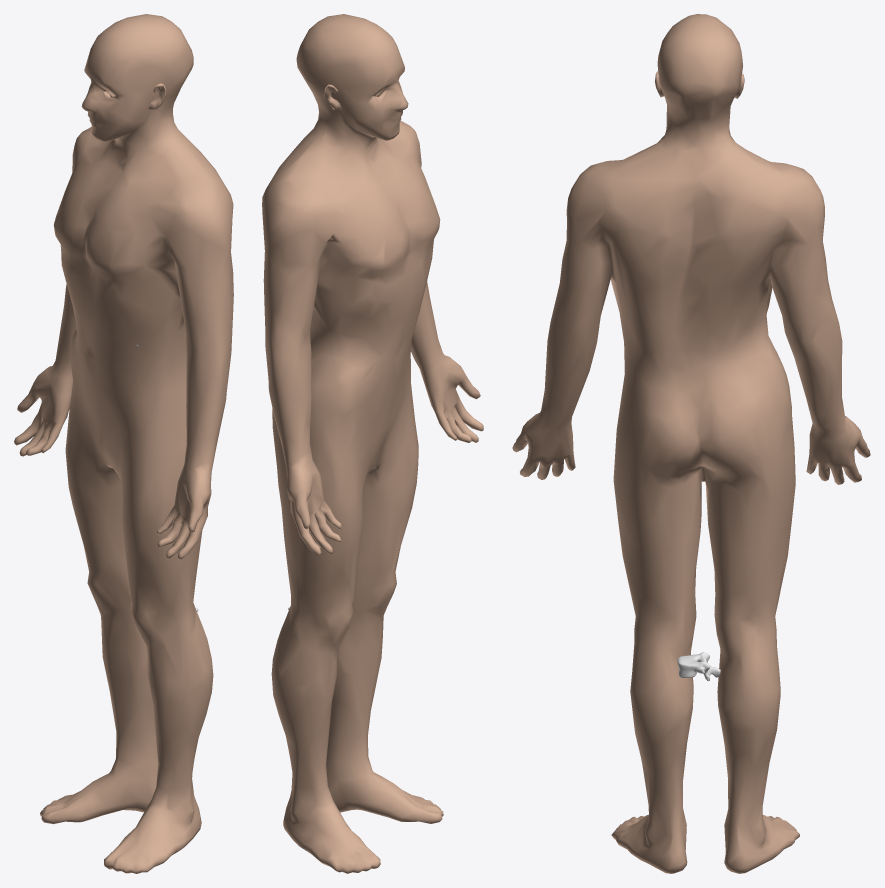
The model's file is scoliosis.glb.
3 views of the same model, side by side, from view 1: azimuth 30°, elevation 25°; view 2: azimuth 150°, elevation 25°; view 3: azimuth 270°, elevation 25° (orthographic). The views are drawn at different scales.
Parts seen in each view (by area): view 1: Object_76.003; view 2: Object_76.003; view 3: Object_76.003, Cube.015.
Boxes of the visible parts, x1,y1,x2,y2 form: Object_76.003: (14,14,233,873); Object_76.003: (262,14,483,873); Object_76.003: (512,14,870,873); Cube.015: (677,652,720,681).
Size of the model in its own units: 3.12 by 19.53 by 7.59.
